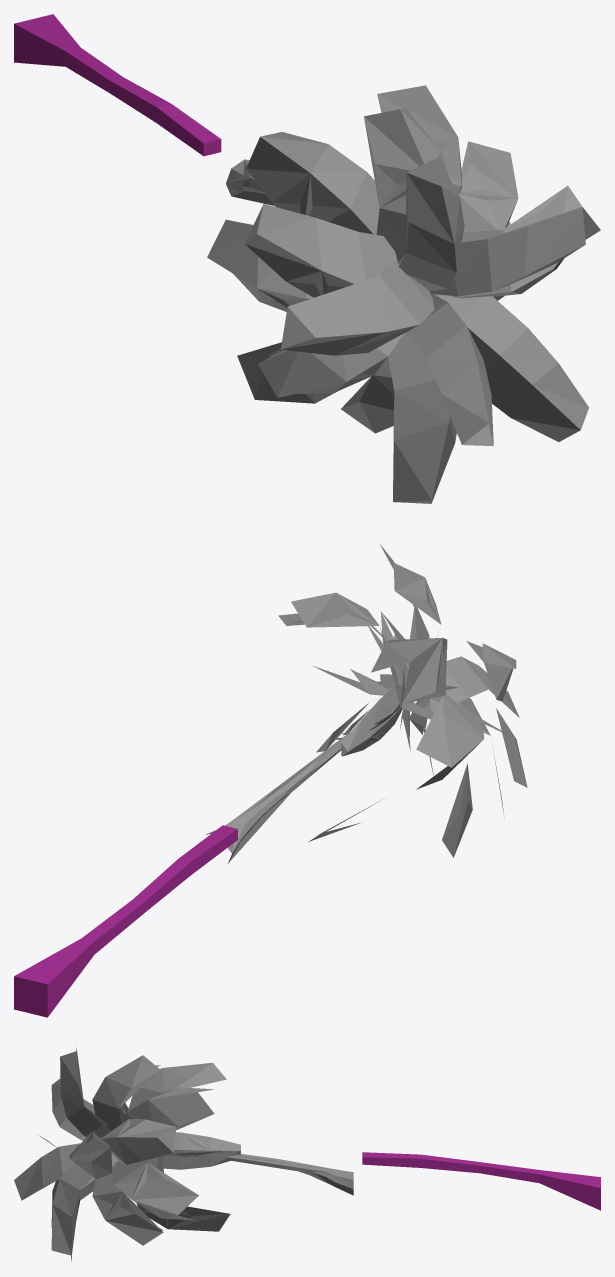
The model's file is trop_Palm01.glb.
3 views of the same model, one above another, from view 1: azimuth 30°, elevation 25°; view 2: azimuth 150°, elevation 25°; view 3: azimuth 270°, elevation 25° (orthographic). The views are drawn at different scales.
Parts seen in each view (by area): view 1: geometry_0; view 2: geometry_0; view 3: geometry_0.
Boxes of the visible parts, x1,y1,x2,y2 form: geometry_0: (14, 14, 600, 503); geometry_0: (14, 543, 527, 1017); geometry_0: (14, 1047, 600, 1261).
Size of the model in its own units: 11.72 by 11.17 by 30.
